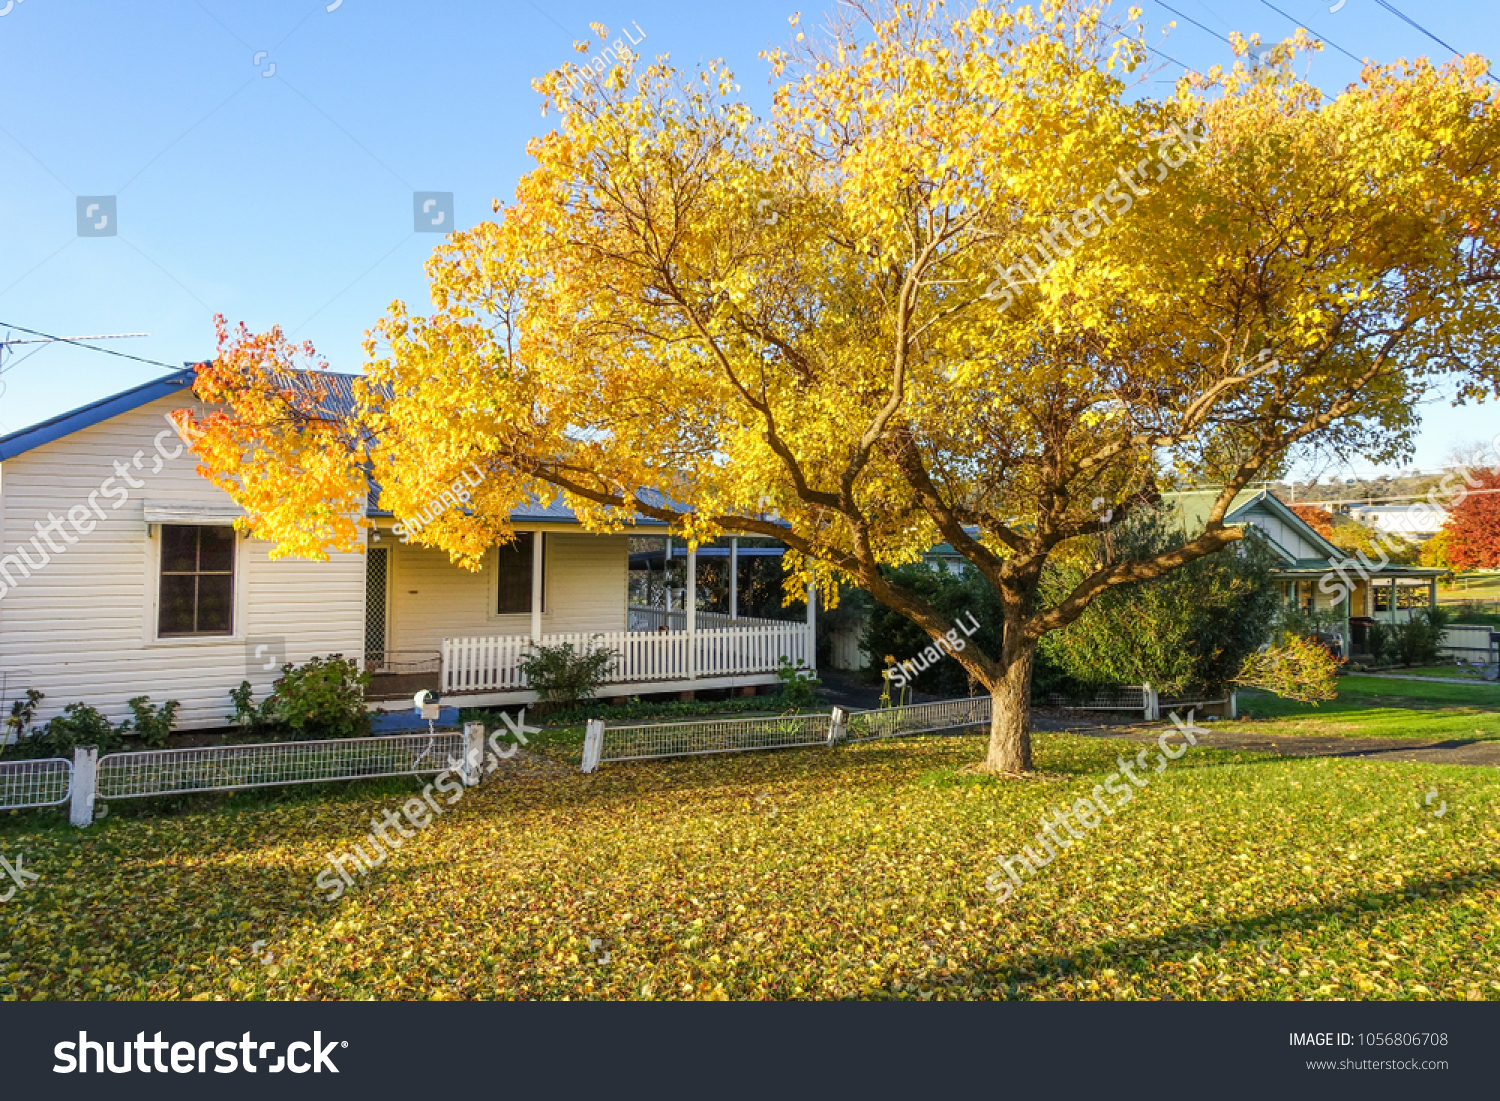tree: (260, 29, 1486, 757)
